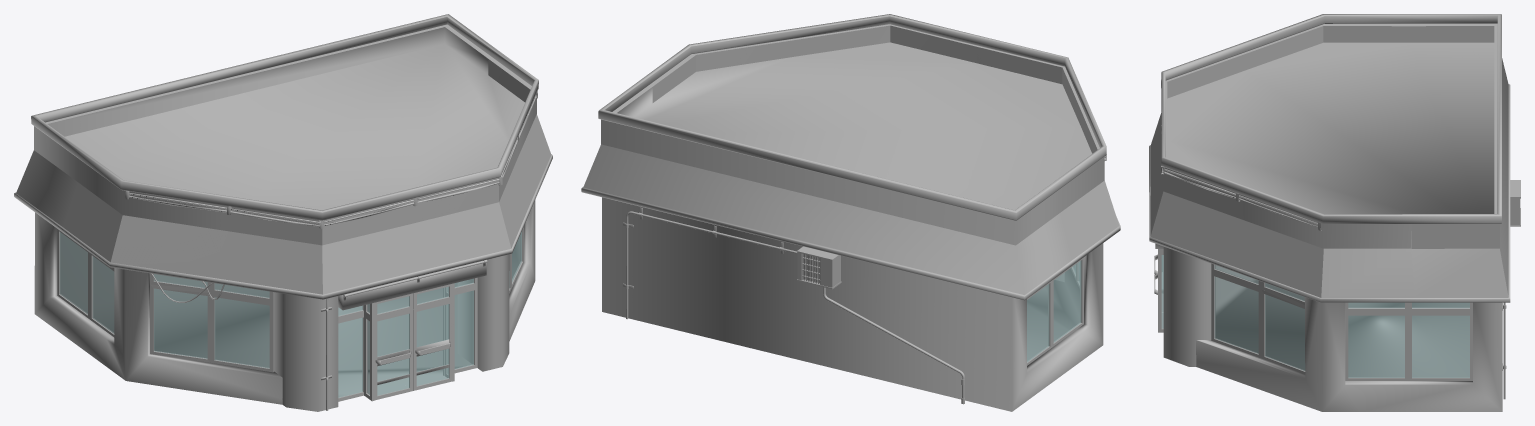
The model's file is convenience_store.fbx.
3 renders of one model, left to right at view 1: azimuth 30°, elevation 25°; view 2: azimuth 150°, elevation 25°; view 3: azimuth 270°, elevation 25°, orthographic.
Parts seen in each view (by area): view 1: Box646.010; view 2: Box646.010; view 3: Box646.010.
Part boxes in pixels (x1,y1,x2,y2): Box646.010: (14,14,552,411); Box646.010: (581,14,1120,411); Box646.010: (1149,14,1520,411).
Size of the model in its own units: 1213 by 526 by 889.
